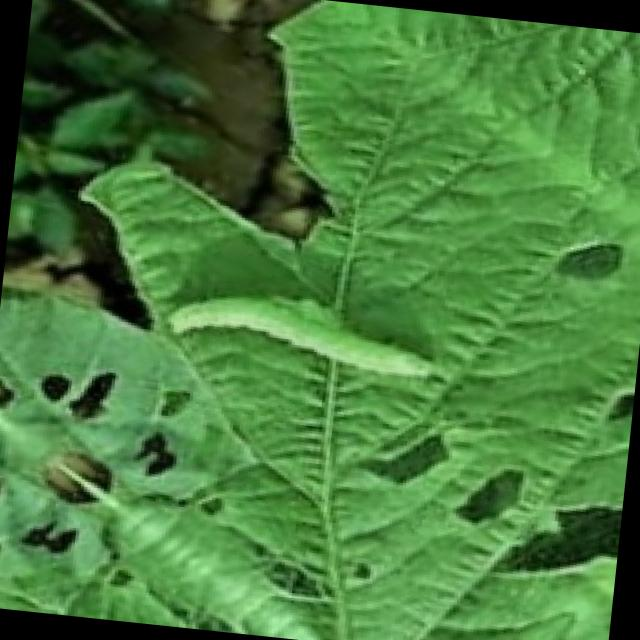Armyworm: (101, 279, 508, 390)
Armyworm_damage: (347, 422, 469, 499), (534, 223, 636, 300), (450, 458, 535, 537)
